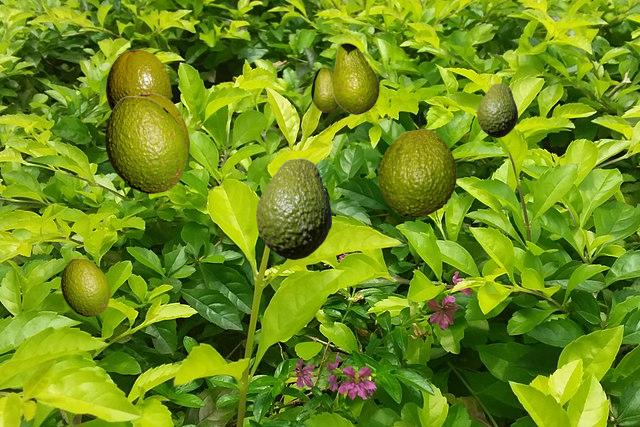avocado: (105, 96, 186, 192), (256, 158, 330, 258), (378, 129, 455, 216), (106, 49, 170, 109), (134, 93, 188, 158), (332, 43, 378, 113), (61, 258, 109, 315), (477, 83, 516, 136), (311, 67, 338, 111)
